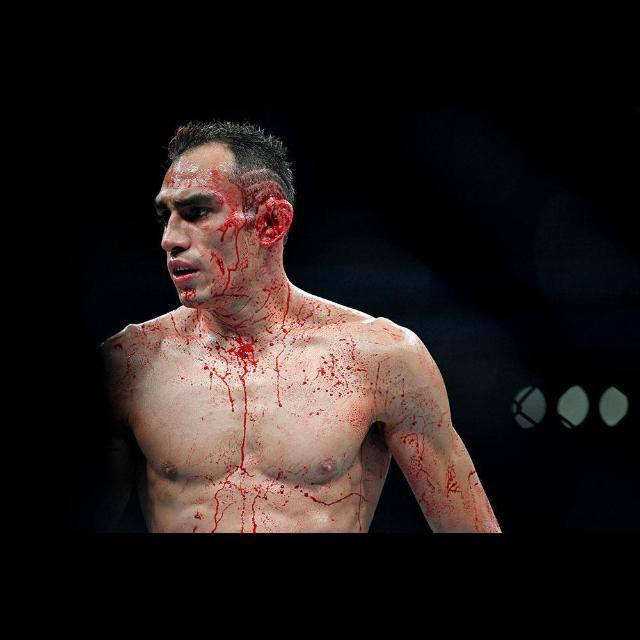blood: (125, 151, 503, 534)
